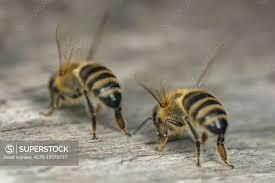Apis-mellifera-scutellata: (40, 20, 130, 140), (134, 66, 237, 169)
